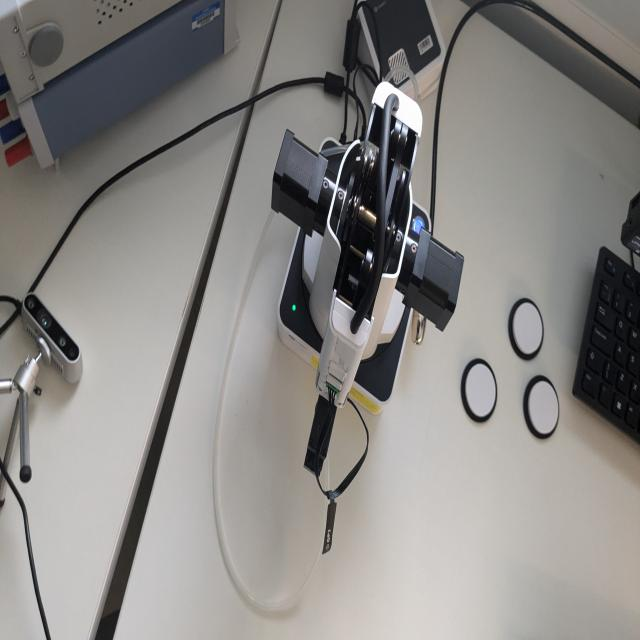Robot-end-effector-HF8z: (302, 392, 338, 478)
